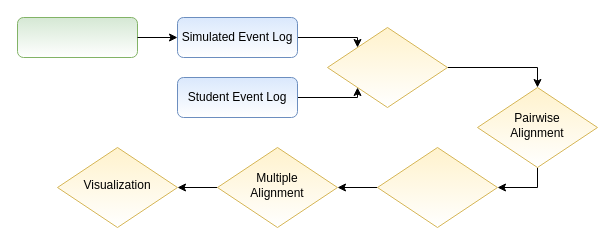
Image size: 615x245. Some labels were removed from this diagram. The box of each missing label's shape, as (x1, y1, x2, y2) in pixels:
Identity Evaluation: (376, 146, 498, 228)
Petri Net Model: (16, 16, 138, 58)
Preprocess: (326, 26, 448, 108)
